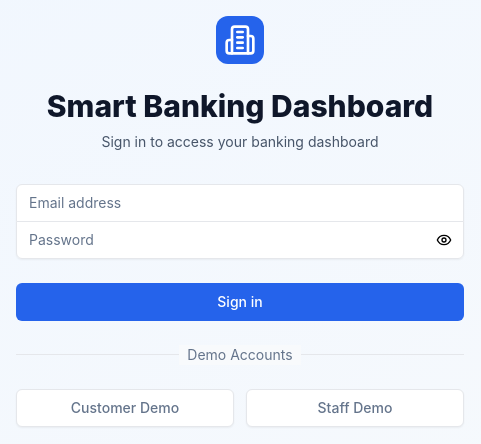
Scenario: Login Component › shows loading state during form submission
The image size is (481, 444).
In the field with placeholder "Email address": point(240, 202) x1=16 y1=184 x2=464 y2=222, type "test@example.com"
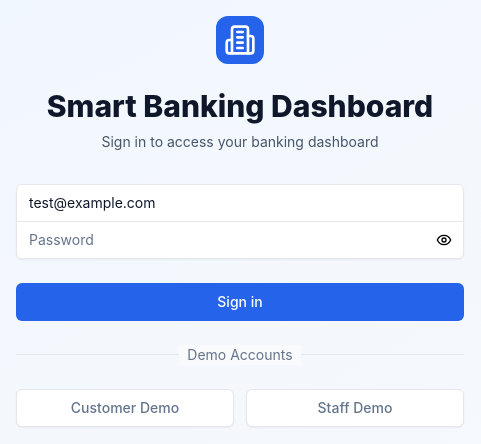
In the password field with placeholder "Password": point(240, 240) x1=16 y1=220 x2=464 y2=258, type "password123"
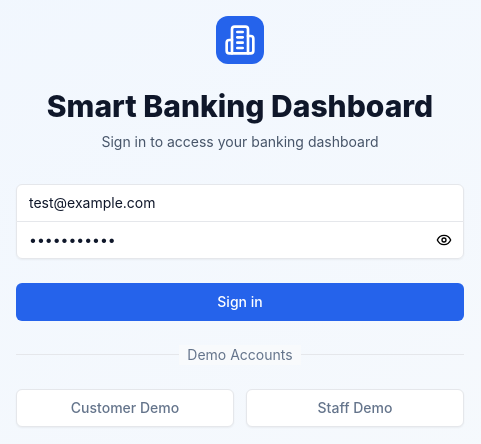
Click the button "Sign in": point(240, 302) x1=16 y1=282 x2=464 y2=320
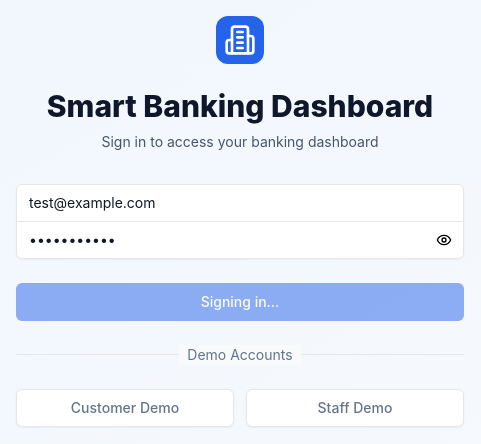
Check: the button "Signing in..." is shown, box x1=16 y1=282 x2=464 y2=320
